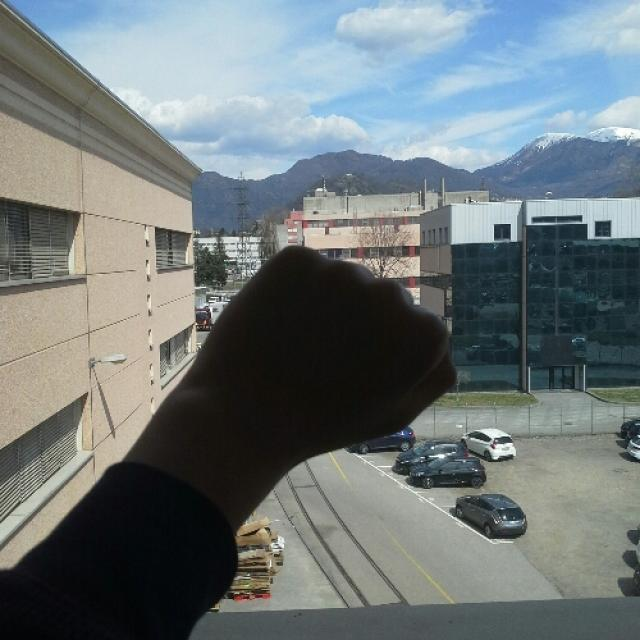rock: (217, 250, 457, 464)
